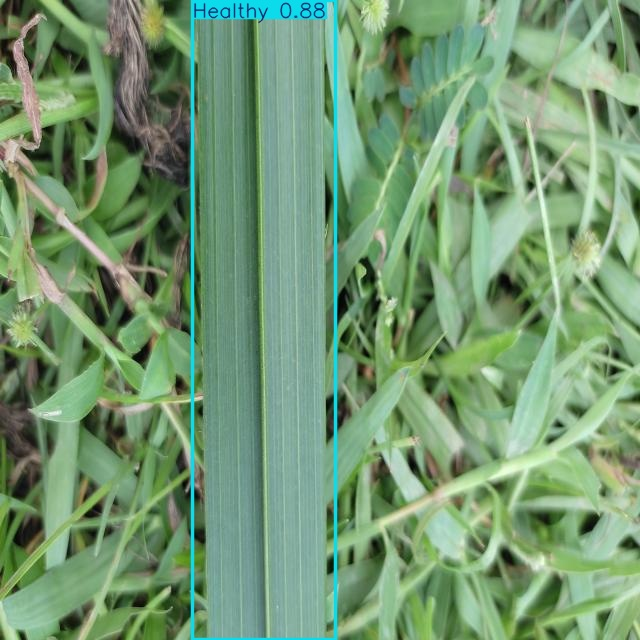Healthy: (192, 0, 335, 640)
